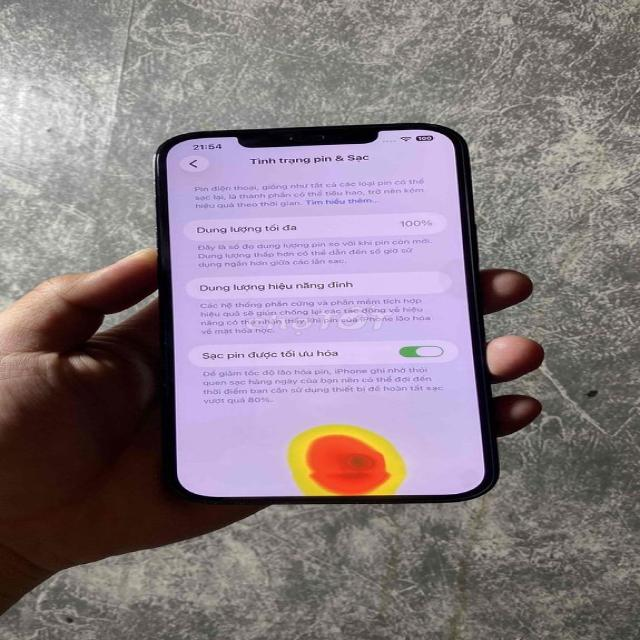gen_12_13: (152, 123, 502, 506)
screen_defect: (272, 417, 426, 508)
